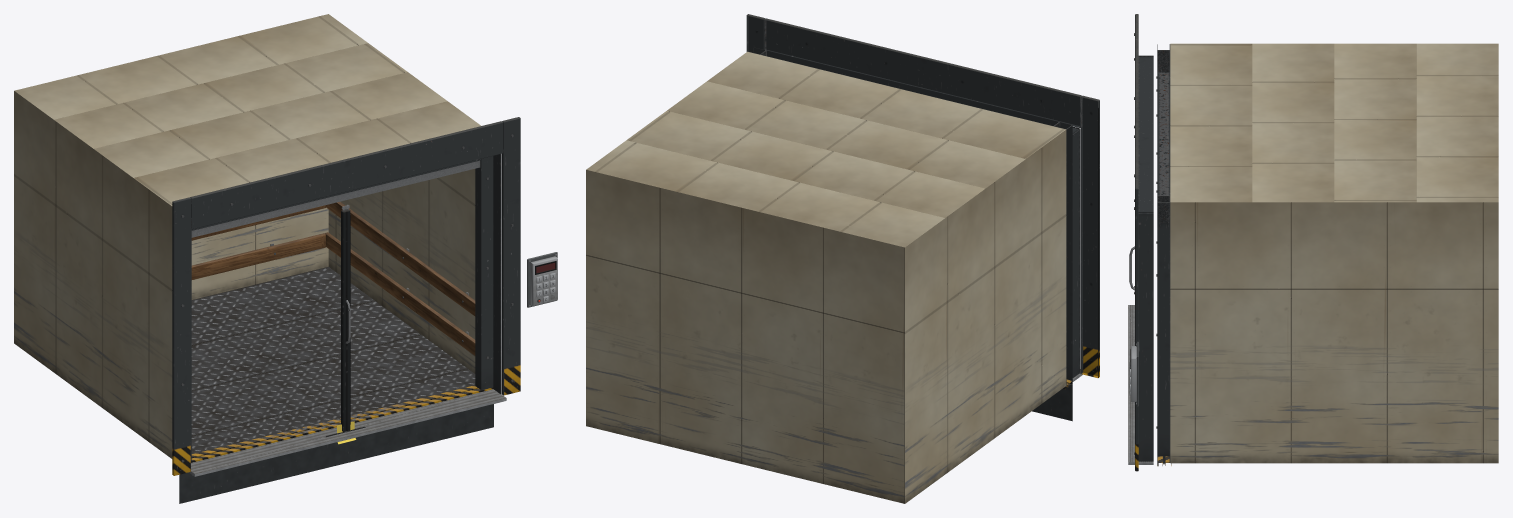
File: Elevator.fbx
3 renders of one model, left to right at view 1: azimuth 30°, elevation 25°; view 2: azimuth 150°, elevation 25°; view 3: azimuth 270°, elevation 25°, orthographic. The views are drawn at different scales.
Parts seen in each view (by area): view 1: Car, Portal, CarFront, CarTrim, LandingSill, GateLead, Keypad; view 2: Car, Portal, CarFront; view 3: Car, Portal, CarFront, LandingSill, Keypad.
Boxes of the visible parts, x1,y1,x2,y2 form: Car: [14, 14, 480, 458]; Portal: [172, 117, 520, 475]; CarFront: [179, 156, 493, 503]; CarTrim: [191, 201, 475, 355]; LandingSill: [189, 389, 506, 476]; GateLead: [341, 205, 350, 432]; Keypad: [527, 252, 557, 307]; Car: [586, 51, 1066, 503]; Portal: [746, 14, 1099, 377]; CarFront: [748, 47, 1072, 421]; Car: [1170, 43, 1498, 463]; Portal: [1134, 14, 1153, 471]; CarFront: [1156, 44, 1171, 466]; LandingSill: [1128, 305, 1153, 464]; Keypad: [1130, 341, 1138, 406].
Bounding box in the file's own units: 15.3 × 11.9 × 12.35.
Materials: 6 (3 with a texture image).
